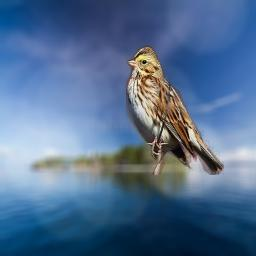Sparrow: (126, 45, 224, 175)
